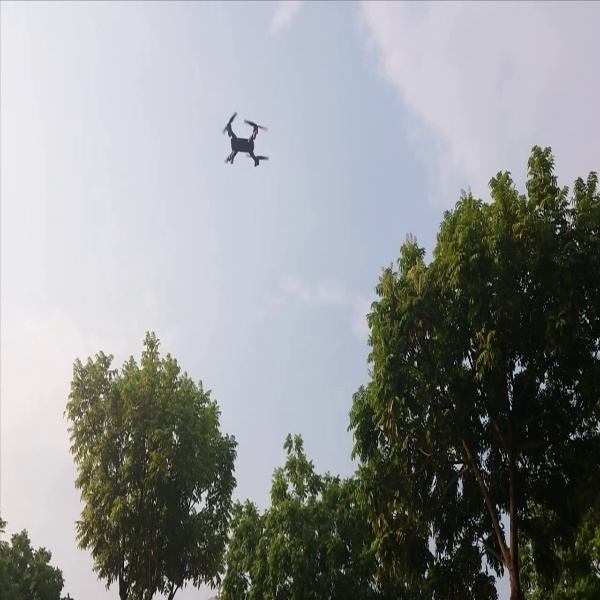drone: (214, 112, 279, 171)
